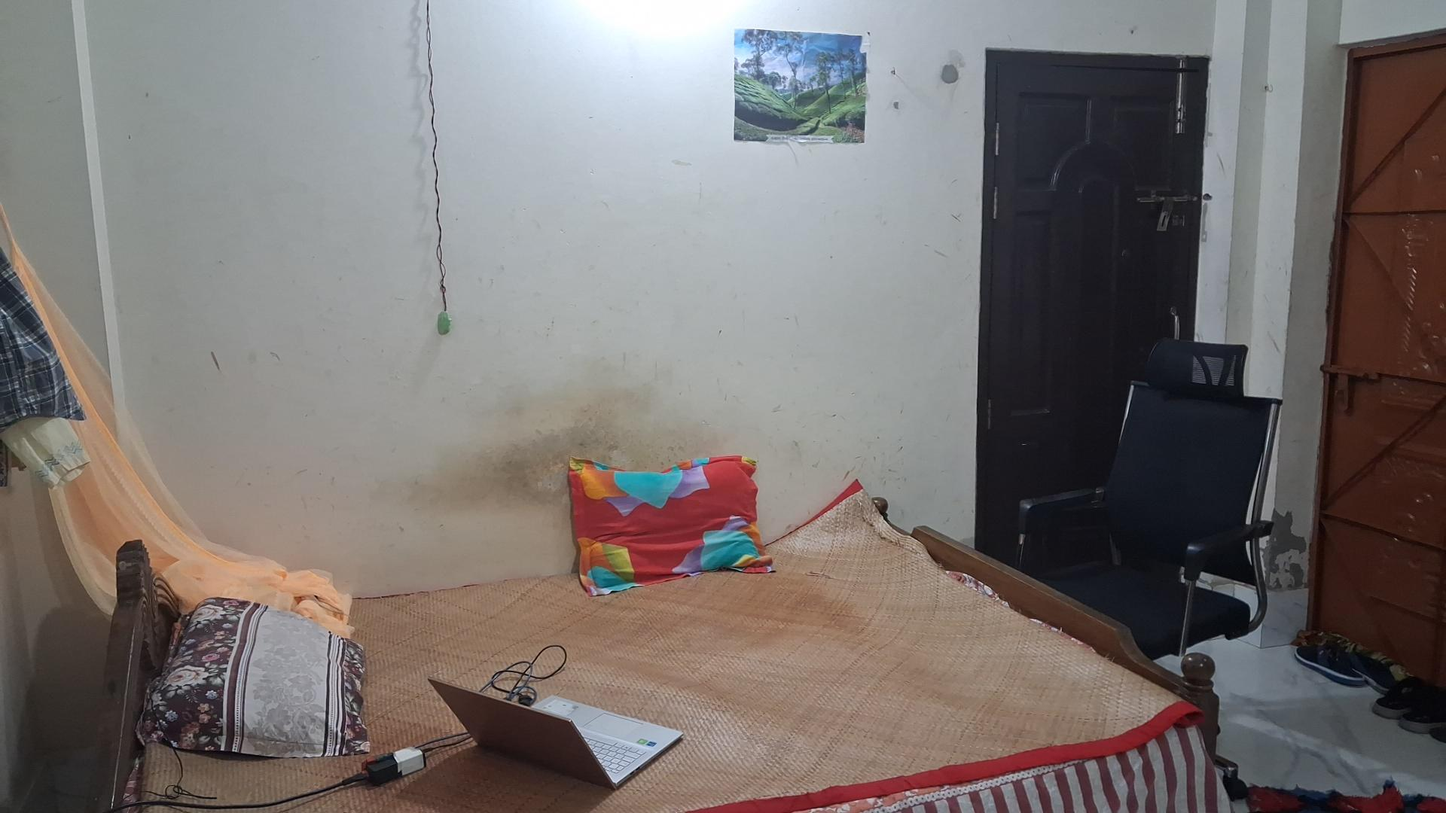Chair: (1016, 378, 1283, 670)
Footwear: (1289, 636, 1390, 688)
Laptop: (427, 675, 684, 790)
Photo: (728, 20, 871, 156)
Pillow: (556, 444, 784, 603), (146, 597, 366, 761)
